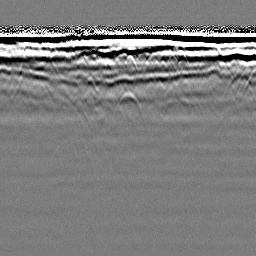cavity: (114, 88, 143, 114)
